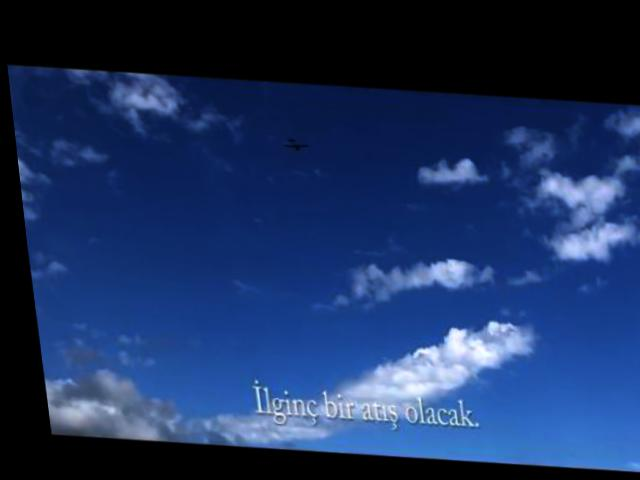uav: (276, 130, 309, 148)
